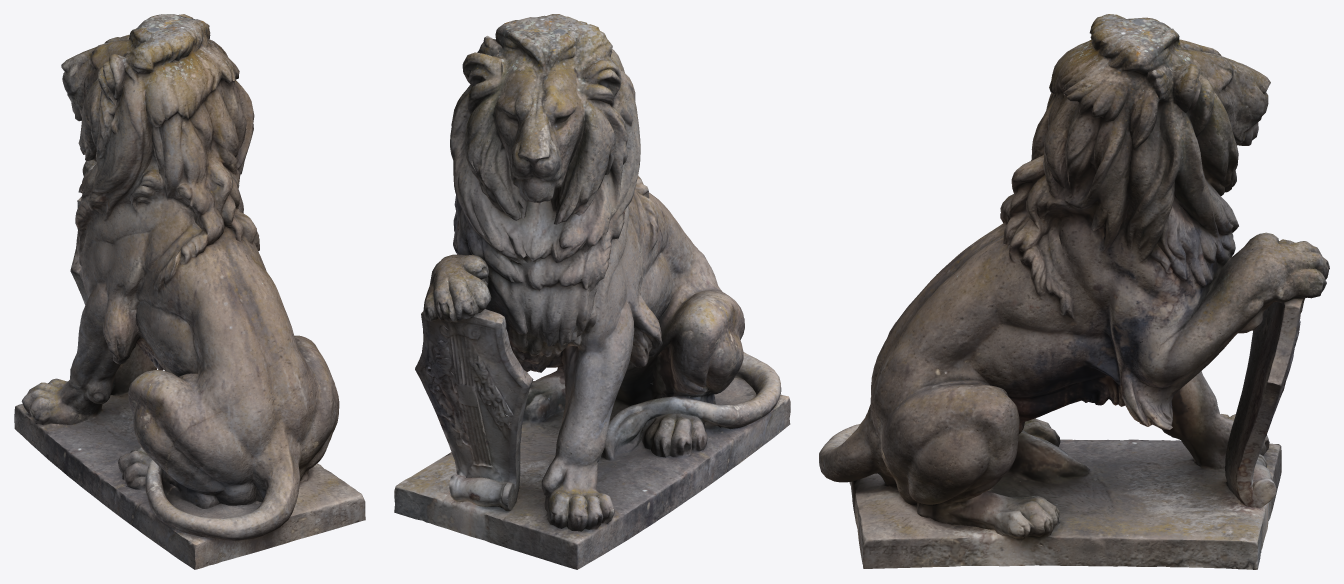
The model's file is lion.obj.
3 renders of one model, left to right at view 1: azimuth 30°, elevation 25°; view 2: azimuth 150°, elevation 25°; view 3: azimuth 270°, elevation 25°, orthographic. The views are drawn at different scales.
Parts seen in each view (by area): view 1: lion; view 2: lion; view 3: lion.
Part boxes in pixels (x1,y1,x2,y2): lion: [14, 14, 365, 569]; lion: [394, 14, 790, 569]; lion: [819, 14, 1329, 569].
Size of the model in its own units: 0.9801 by 2.04 by 1.9.
1 material, 1 textured.
